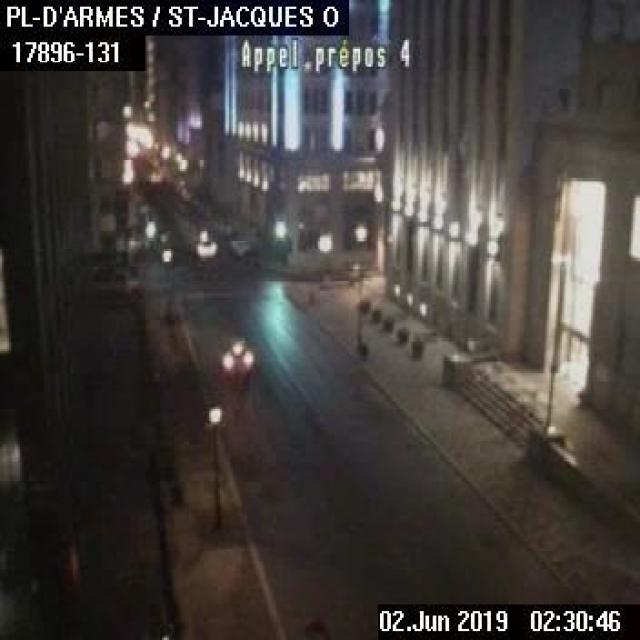vehicle: (219, 335, 254, 373), (194, 229, 215, 255)
